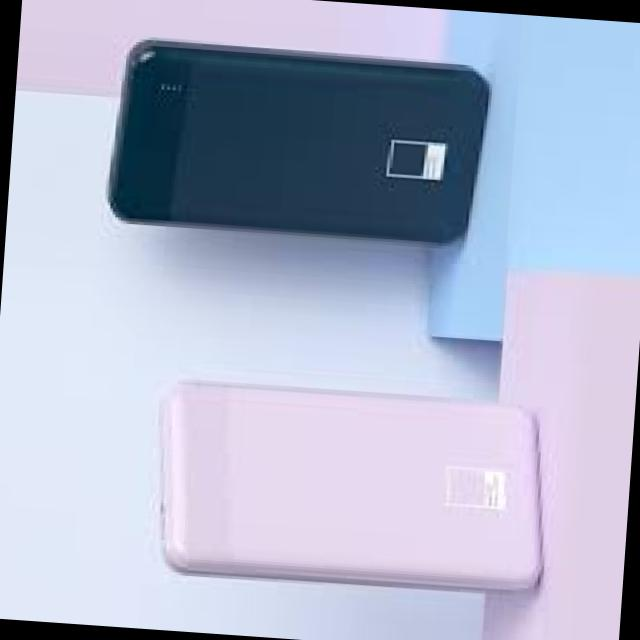power_bank: (152, 374, 554, 594), (102, 28, 495, 252)
